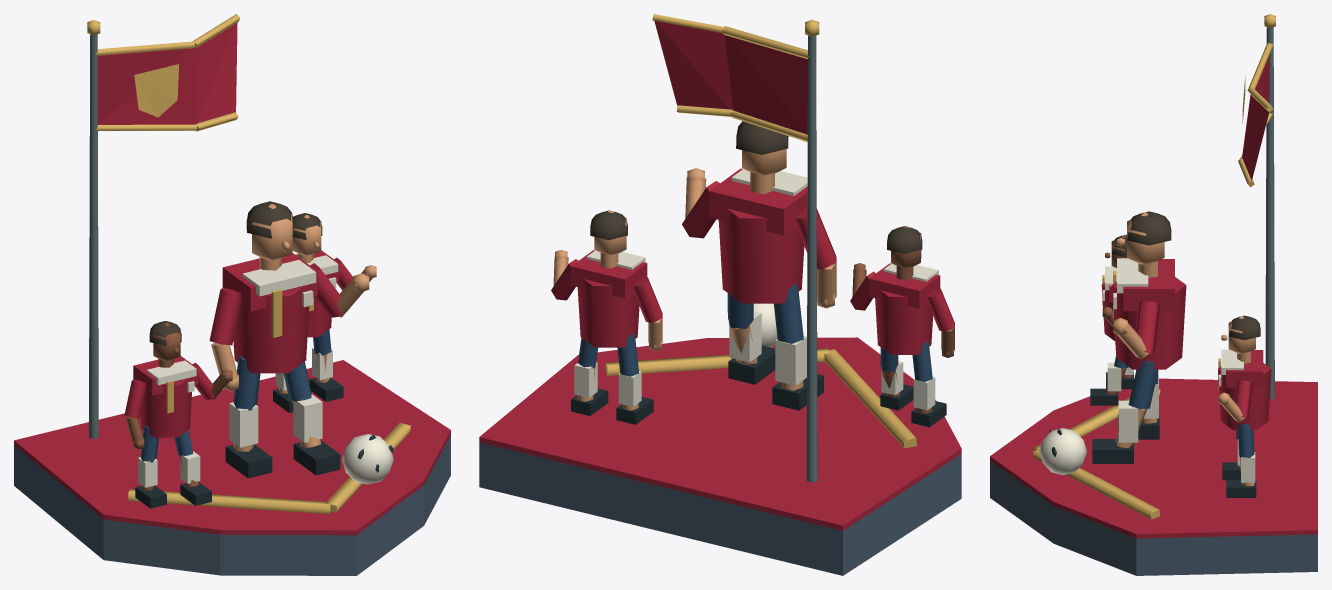
Rendered from expedition.glb.
3 views of the same model, side by side, from view 1: azimuth 30°, elevation 25°; view 2: azimuth 150°, elevation 25°; view 3: azimuth 270°, elevation 25° (orthographic). The views are drawn at different scales.
Visible parts, largest first — view 1: foundation_crimson, foundation_slate, team_banner_crimson, captain_torso_crimson, banner_pole_iron, base_chevron_gold, captain_socks_white, captain_boots_black, banner_trim_gold, captain_arms_crimson, squad_left_torso_crimson, football_white (+20 smaller); view 2: foundation_crimson, foundation_slate, team_banner_crimson, captain_torso_crimson, banner_pole_iron, base_chevron_gold, squad_right_torso_crimson, captain_shoulders_crimson, squad_left_torso_crimson, banner_trim_gold, captain_socks_white, captain_arms_crimson (+20 smaller); view 3: foundation_crimson, foundation_slate, captain_torso_crimson, banner_pole_iron, base_chevron_gold, captain_shoulders_crimson, football_white, team_banner_crimson, squad_right_torso_crimson, captain_boots_black, captain_hair_hair, captain_socks_white (+15 smaller).
Boxes of the visible parts, <box> form: foundation_crimson: <box>14,360,450,535</box>; foundation_slate: <box>14,435,450,575</box>; team_banner_crimson: <box>97,22,237,124</box>; captain_torso_crimson: <box>233,287,309,373</box>; banner_pole_iron: <box>89,34,98,438</box>; base_chevron_gold: <box>128,422,410,514</box>; captain_socks_white: <box>229,394,322,447</box>; captain_boots_black: <box>225,440,340,478</box>; banner_trim_gold: <box>95,14,240,131</box>; captain_arms_crimson: <box>209,263,342,345</box>; squad_left_torso_crimson: <box>140,379,191,437</box>; football_white: <box>342,434,393,484</box>; foundation_crimson: <box>479,337,961,530</box>; foundation_slate: <box>479,442,961,575</box>; team_banner_crimson: <box>654,21,807,134</box>; captain_torso_crimson: <box>718,208,804,303</box>; banner_pole_iron: <box>806,35,817,482</box>; base_chevron_gold: <box>605,348,916,448</box>; squad_right_torso_crimson: <box>577,279,639,347</box>; captain_shoulders_crimson: <box>709,168,807,235</box>; squad_left_torso_crimson: <box>875,290,932,354</box>; banner_trim_gold: <box>652,14,809,141</box>; captain_socks_white: <box>729,311,806,385</box>; captain_arms_crimson: <box>682,181,836,269</box>; foundation_crimson: <box>990,378,1317,538</box>; foundation_slate: <box>990,460,1317,575</box>; captain_torso_crimson: <box>1112,277,1186,369</box>; banner_pole_iron: <box>1265,27,1274,399</box>; base_chevron_gold: <box>1033,389,1160,519</box>; captain_shoulders_crimson: <box>1123,259,1174,311</box>; football_white: <box>1039,428,1086,475</box>; team_banner_crimson: <box>1242,54,1269,180</box>; squad_right_torso_crimson: <box>1218,363,1271,429</box>; captain_boots_black: <box>1092,414,1159,463</box>; captain_hair_hair: <box>1127,211,1171,245</box>; captain_socks_white: <box>1118,376,1158,442</box>.
Bounding box in the file's own units: 1 × 1.3 × 0.8879.
